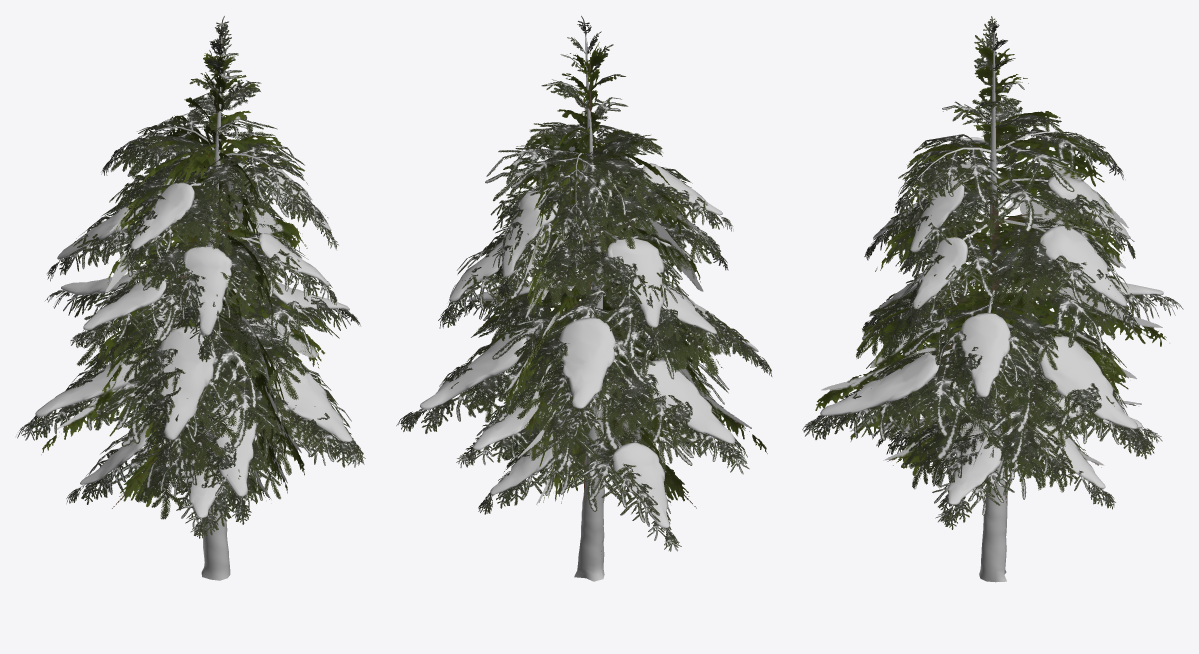
File: Spruce1.fbx
3 renders of one model, left to right at view 1: azimuth 30°, elevation 25°; view 2: azimuth 150°, elevation 25°; view 3: azimuth 270°, elevation 25°, orthographic.
Visible parts, largest first — view 1: LOD0, Billboard, Branch_snowdrift_10_LOD0, Branch_snowdrift_11_LOD0, Branch_snowdrift_9_LOD0, Branch_snowdrift_13_LOD0, Branch_snowdrift_5_LOD0, Branch_snowdrift_3_LOD0, Branch_snowdrift_4_LOD0, Branch_snowdrift_8_LOD0; view 2: LOD0, Billboard, Branch_snowdrift_11_LOD0, Branch_snowdrift_12_LOD0, Branch_snowdrift_8_LOD0, Branch_snowdrift_4_LOD0, Branch_snowdrift_10_LOD0, Branch_snowdrift_1_LOD0, Branch_snowdrift_6_LOD0; view 3: LOD0, Billboard, Branch_snowdrift_12_LOD0, Branch_snowdrift_13_LOD0, Branch_snowdrift_9_LOD0, Branch_snowdrift_2_LOD0, Branch_snowdrift_1_LOD0, Branch_snowdrift_10_LOD0.
Part boxes in pixels (x1=…): LOD0: x1=17, y1=16, x2=365, y2=580; Billboard: x1=41, y1=40, x2=329, y2=551; Branch_snowdrift_10_LOD0: x1=130, y1=182, x2=231, y2=440; Branch_snowdrift_11_LOD0: x1=35, y1=205, x2=166, y2=417; Branch_snowdrift_9_LOD0: x1=268, y1=357, x2=352, y2=442; Branch_snowdrift_13_LOD0: x1=259, y1=166, x2=349, y2=310; Branch_snowdrift_5_LOD0: x1=204, y1=401, x2=256, y2=496; Branch_snowdrift_3_LOD0: x1=186, y1=449, x2=223, y2=518; Branch_snowdrift_4_LOD0: x1=80, y1=425, x2=151, y2=484; Branch_snowdrift_8_LOD0: x1=61, y1=267, x2=158, y2=295; LOD0: x1=396, y1=16, x2=772, y2=581; Billboard: x1=478, y1=42, x2=767, y2=551; Branch_snowdrift_11_LOD0: x1=606, y1=238, x2=735, y2=443; Branch_snowdrift_12_LOD0: x1=420, y1=190, x2=558, y2=409; Branch_snowdrift_8_LOD0: x1=558, y1=317, x2=615, y2=408; Branch_snowdrift_4_LOD0: x1=612, y1=442, x2=669, y2=528; Branch_snowdrift_10_LOD0: x1=642, y1=163, x2=758, y2=351; Branch_snowdrift_1_LOD0: x1=490, y1=433, x2=560, y2=494; Branch_snowdrift_6_LOD0: x1=473, y1=395, x2=554, y2=450; LOD0: x1=802, y1=16, x2=1183, y2=582; Billboard: x1=815, y1=42, x2=1166, y2=502; Branch_snowdrift_12_LOD0: x1=1037, y1=176, x2=1137, y2=429; Branch_snowdrift_13_LOD0: x1=910, y1=174, x2=1010, y2=397; Branch_snowdrift_9_LOD0: x1=820, y1=354, x2=939, y2=415; Branch_snowdrift_2_LOD0: x1=947, y1=440, x2=1001, y2=504; Branch_snowdrift_1_LOD0: x1=1033, y1=420, x2=1105, y2=488; Branch_snowdrift_10_LOD0: x1=869, y1=137, x2=988, y2=316.
Size of what is drawn, in the model's own units: 118 by 197 by 121.
